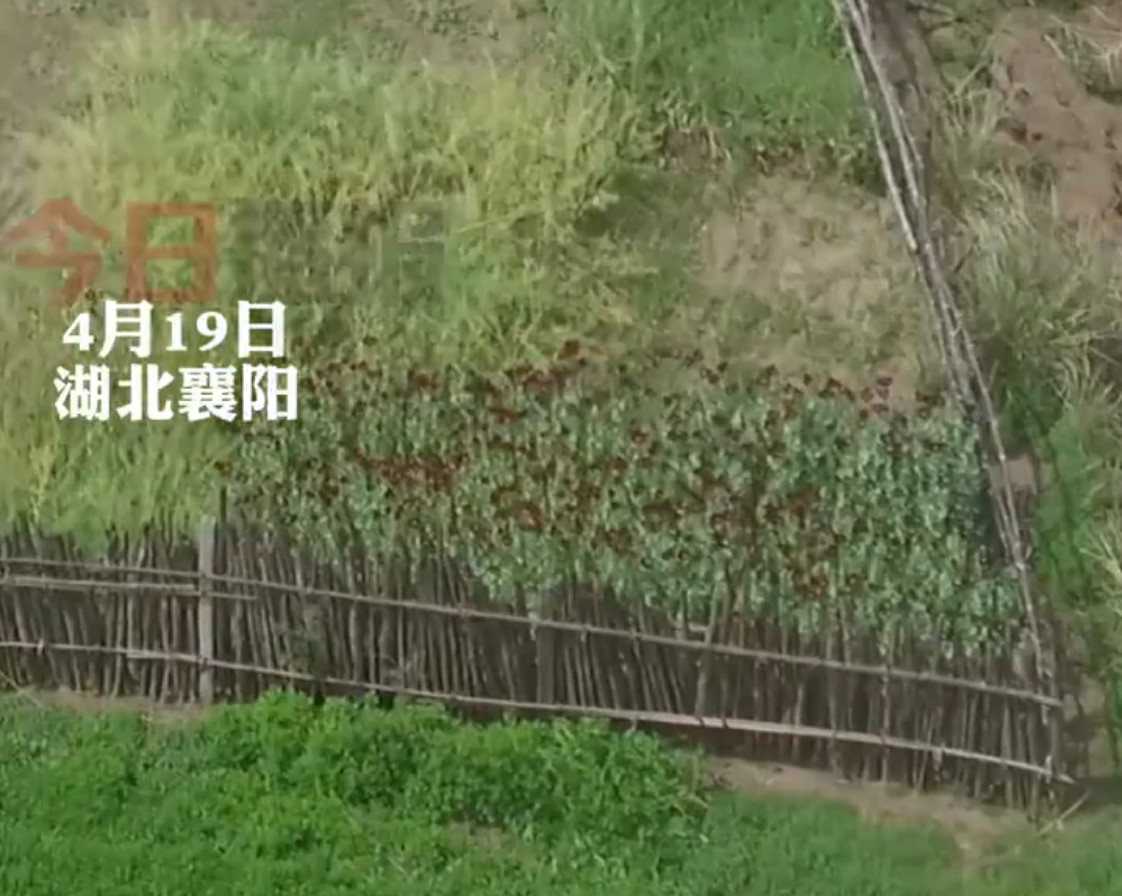Poppy: (204, 322, 1010, 662)
